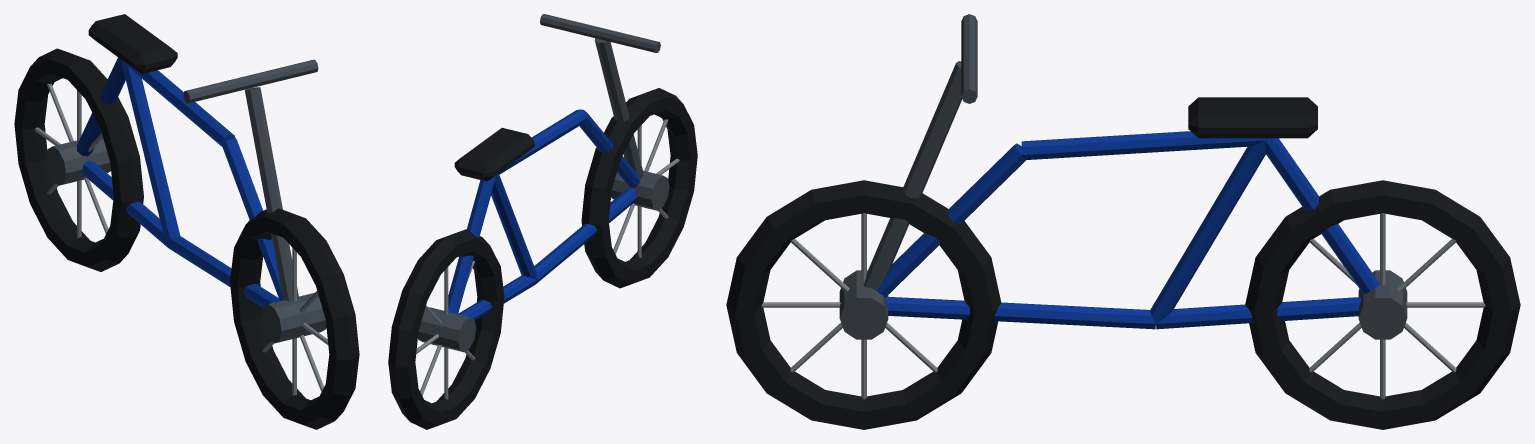
File: BicycleBlue.fbx
3 renders of one model, left to right at view 1: azimuth 30°, elevation 25°; view 2: azimuth 150°, elevation 25°; view 3: azimuth 270°, elevation 25°, orthographic. The views are drawn at different scales.
Visible parts, largest first — view 1: BicycleBlue; view 2: BicycleBlue; view 3: BicycleBlue.
Boxes of the visible parts, box(x1,y1,x2,y2) form: BicycleBlue: box(14, 14, 359, 429); BicycleBlue: box(388, 14, 697, 429); BicycleBlue: box(726, 14, 1520, 429).
Size of the model in its own units: 44 by 103 by 196.
1 material, 1 textured.
